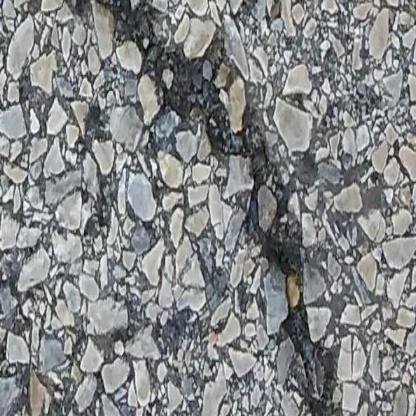Cracks: (48, 0, 347, 416)
